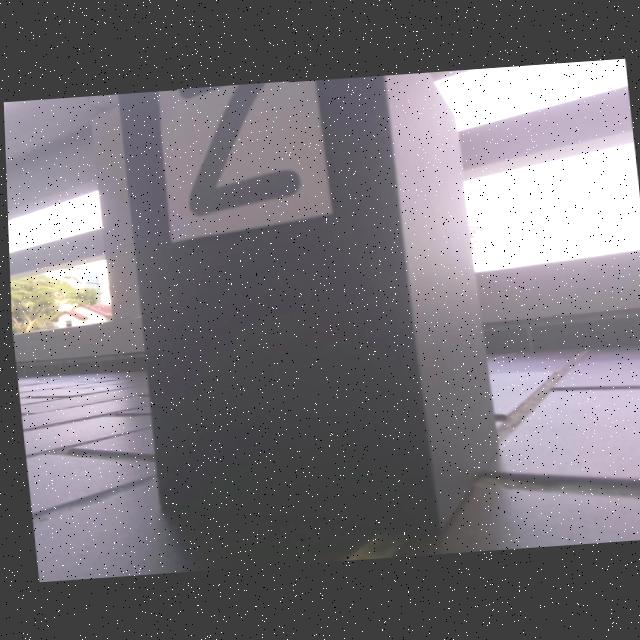Z: (187, 83, 298, 214)
